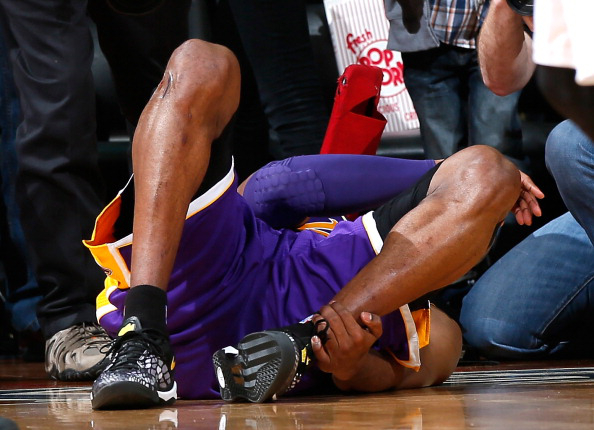fall: (48, 14, 544, 420)
